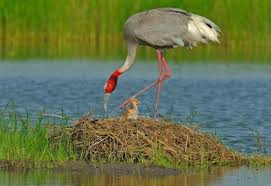seu_dau_do: (102, 6, 222, 121)
